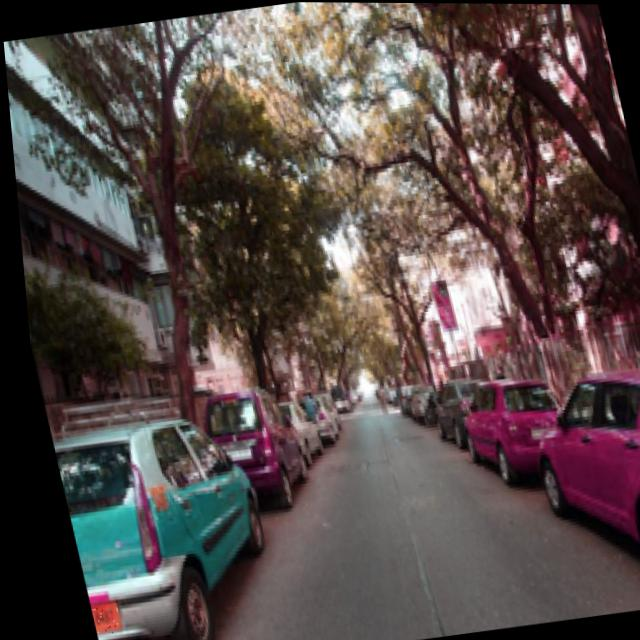license_plate: (80, 606, 111, 635)
